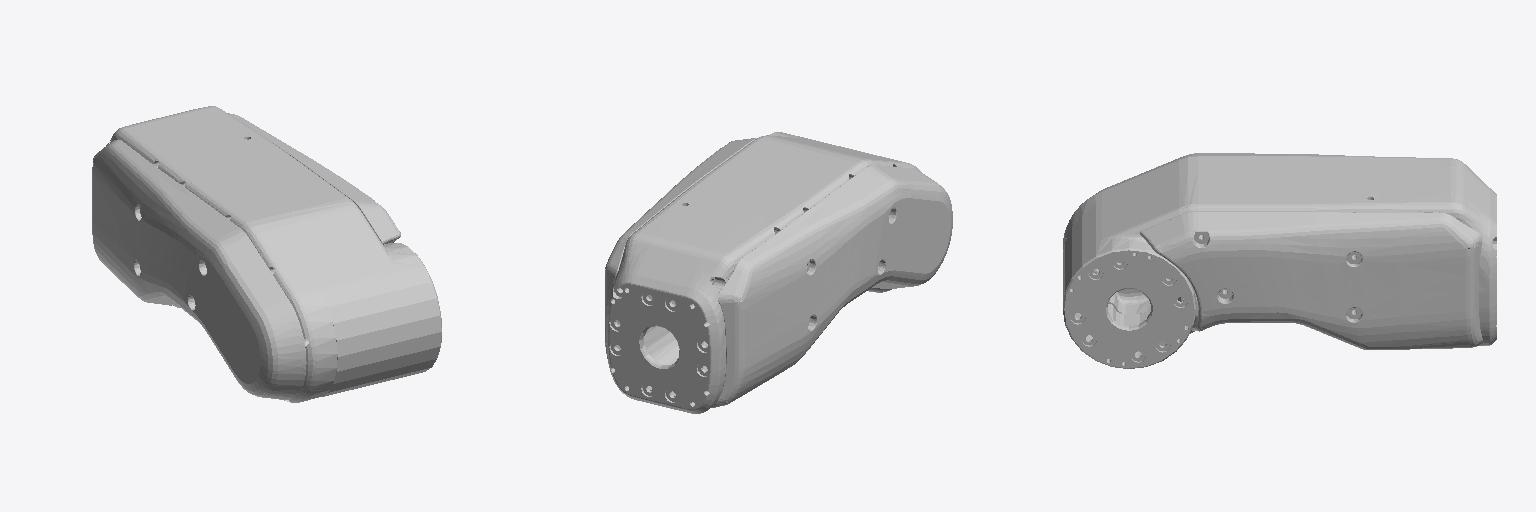
Rendered from upperArm_left.obj.
The picture shows the model from 3 angles: view 1: azimuth 30°, elevation 25°; view 2: azimuth 150°, elevation 25°; view 3: azimuth 270°, elevation 25°; orthographic projection.
Visible parts, largest first — view 1: bicep_left, bicep_left_float; view 2: bicep_left, bicep_left_float; view 3: bicep_left, bicep_left_float.
Part boxes in pixels (bbox=[...]): bicep_left: bbox=[106, 106, 441, 402]; bicep_left_float: bbox=[92, 113, 400, 399]; bicep_left: bbox=[606, 132, 919, 413]; bicep_left_float: bbox=[605, 138, 952, 407]; bicep_left: bbox=[1063, 156, 1496, 368]; bicep_left_float: bbox=[1096, 153, 1482, 349].
Size of the model in its own units: 0.1185 by 0.0961 by 0.2505.